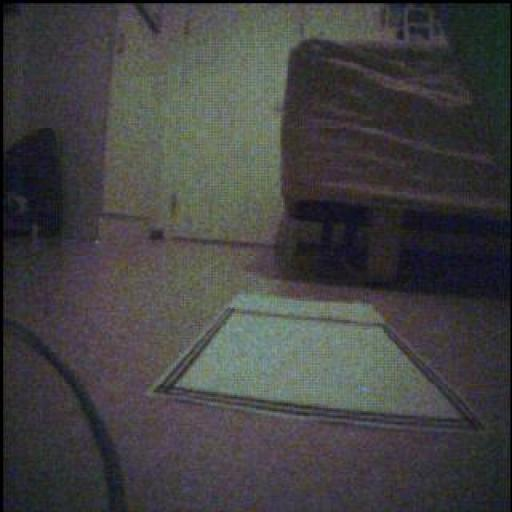pad: (151, 295, 481, 430)
